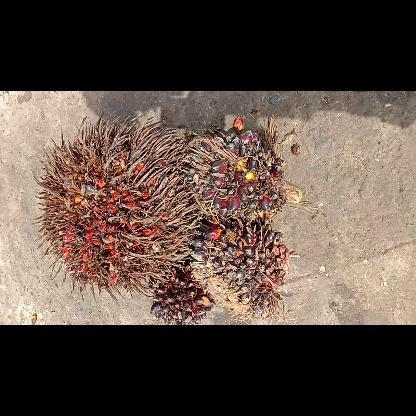TBS abnormal: (184, 126, 304, 224), (189, 216, 291, 322), (148, 272, 216, 324)
Terlalu masak: (29, 110, 202, 304)
